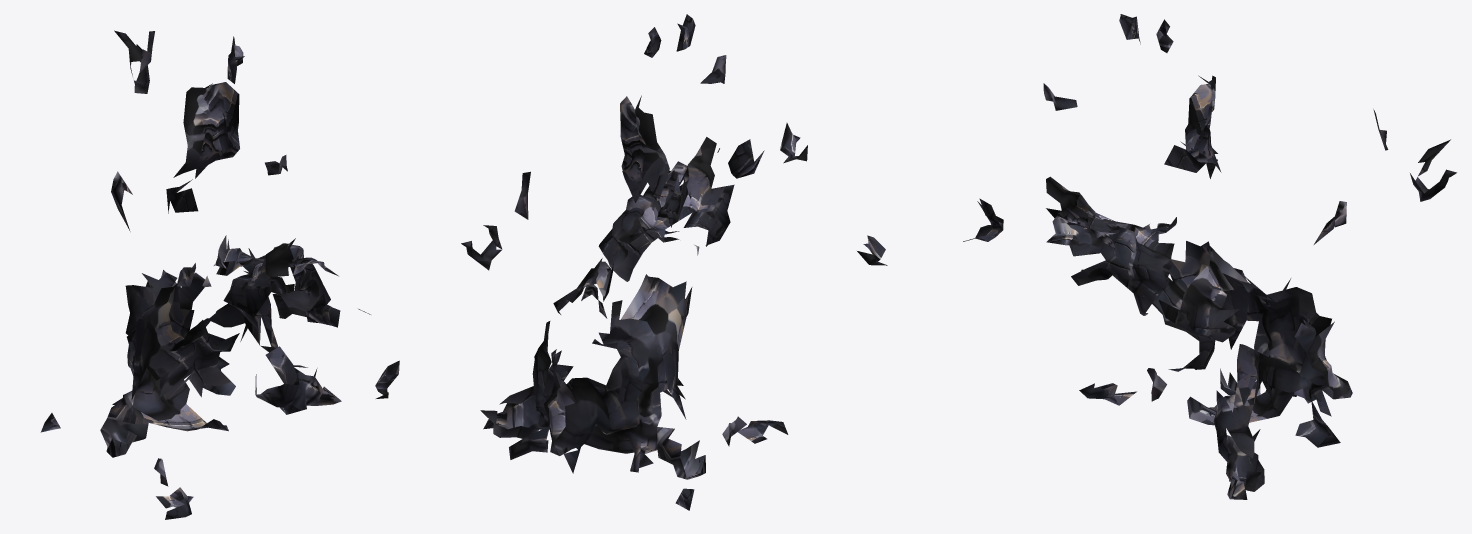
Rendered from RIP0 (2).obj.
3 views of the same model, side by side, from view 1: azimuth 30°, elevation 25°; view 2: azimuth 150°, elevation 25°; view 3: azimuth 270°, elevation 25° (orthographic). The views are drawn at different scales.
Parts seen in each view (by area): view 1: RIP0; view 2: RIP0; view 3: RIP0.
Boxes of the visible parts, x1,y1,x2,y2 form: RIP0: (40, 30, 399, 519); RIP0: (461, 14, 807, 510); RIP0: (857, 14, 1456, 499).
Size of the model in its own units: 0.6039 by 0.7704 by 1.
